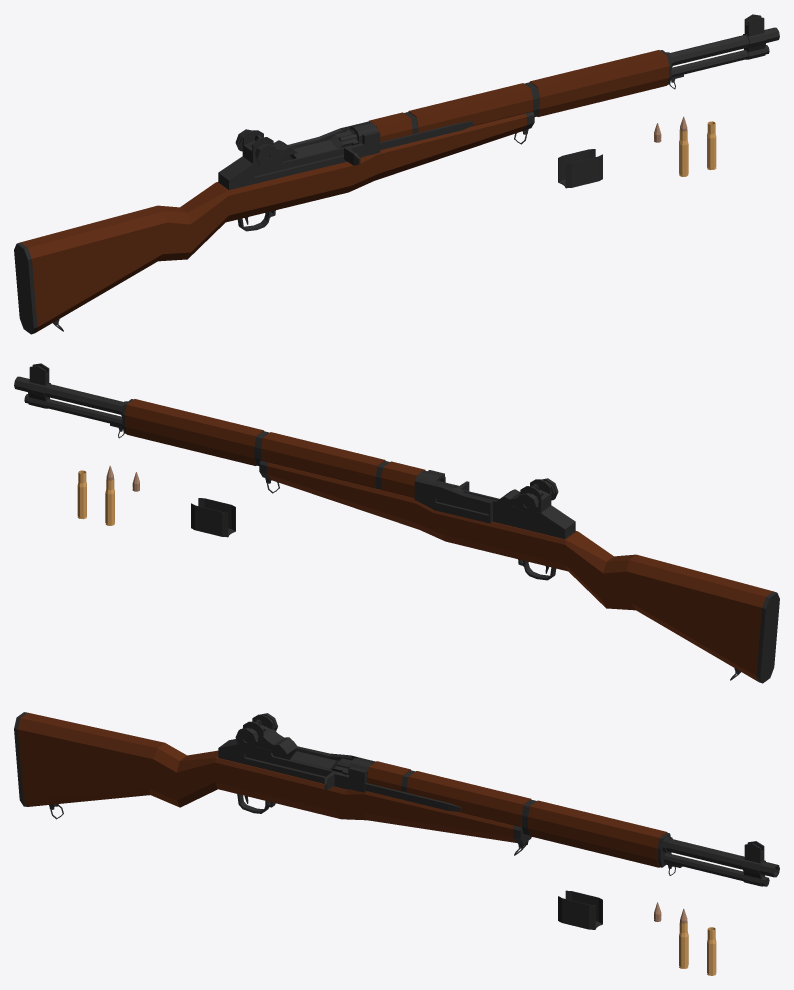
The model's file is M1GarandLP.fbx.
3 views of the same model, one above another, from view 1: azimuth 30°, elevation 25°; view 2: azimuth 150°, elevation 25°; view 3: azimuth 330°, elevation 25° (orthographic).
Visible parts, largest first — view 1: M1 Garand, M1 Garand Culasse, M1 Garand Clip; view 2: M1 Garand, M1 Garand Clip; view 3: M1 Garand, M1 Garand Culasse, M1 Garand Clip, 30-60 Springfield, 30-60 Springfield Case.
Boxes of the visible parts, bbox=[...] form: M1 Garand: bbox=[14, 14, 779, 334]; M1 Garand Culasse: bbox=[290, 121, 472, 165]; M1 Garand Clip: bbox=[558, 149, 602, 188]; M1 Garand: bbox=[14, 363, 779, 683]; M1 Garand Clip: bbox=[191, 498, 235, 537]; M1 Garand: bbox=[14, 712, 779, 886]; M1 Garand Culasse: bbox=[290, 751, 460, 811]; M1 Garand Clip: bbox=[558, 890, 602, 929]; 30-60 Springfield: bbox=[679, 908, 688, 968]; 30-60 Springfield Case: bbox=[707, 927, 716, 975].
Size of the model in its own units: 110 by 20.47 by 7.11.
